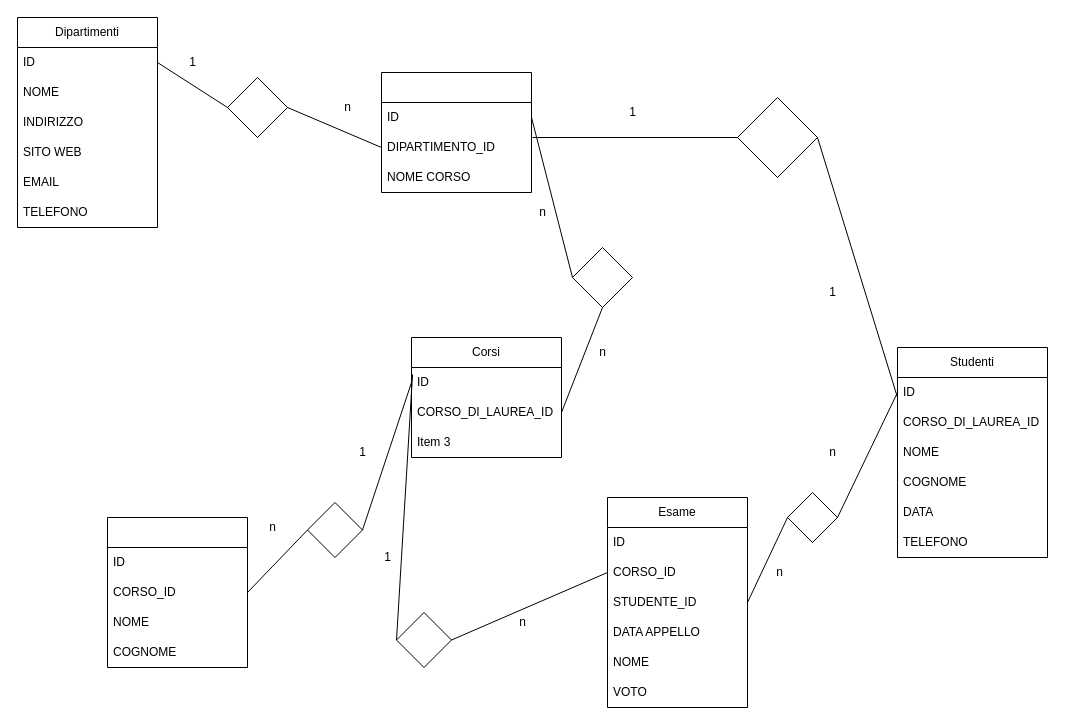
Some shapes in this 1065 by 725 pixel diagram are drawn without their labels. Here are the shapes that lost their labels. From the top down, the box of each, then its label:
(380, 72, 532, 192): Corsi di laurea
(106, 516, 248, 668): Insegnanti
